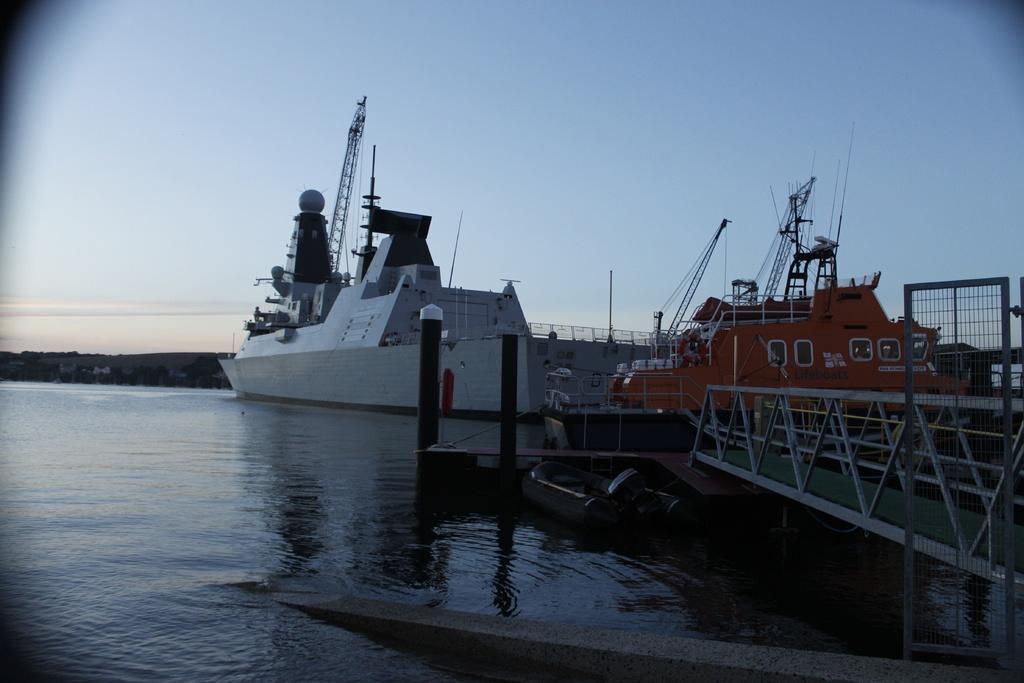Warship: (216, 93, 678, 457)
